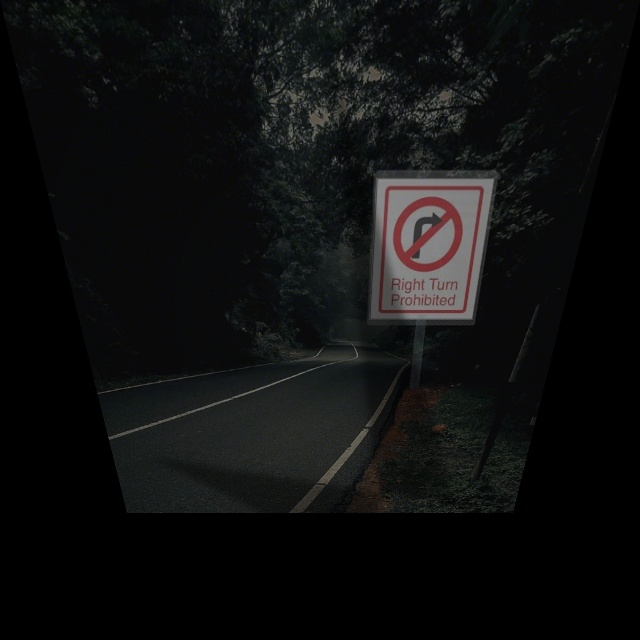Right_Turn_Prohibited: (383, 190, 479, 276)
